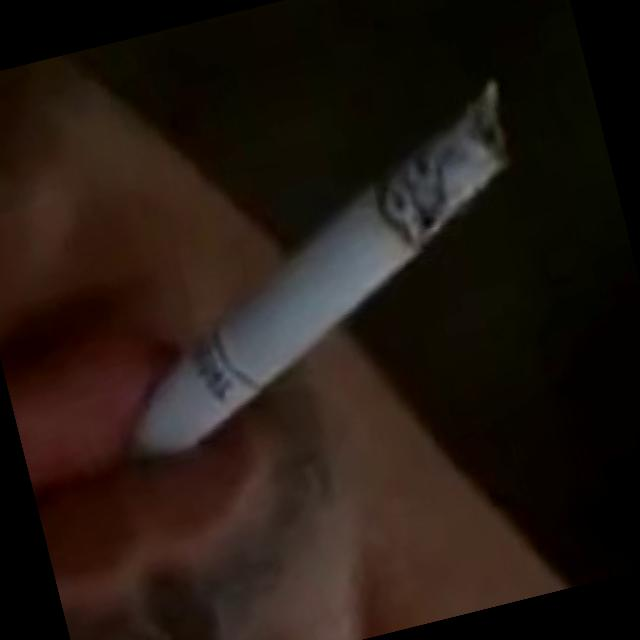cigarette: (43, 58, 592, 508)
